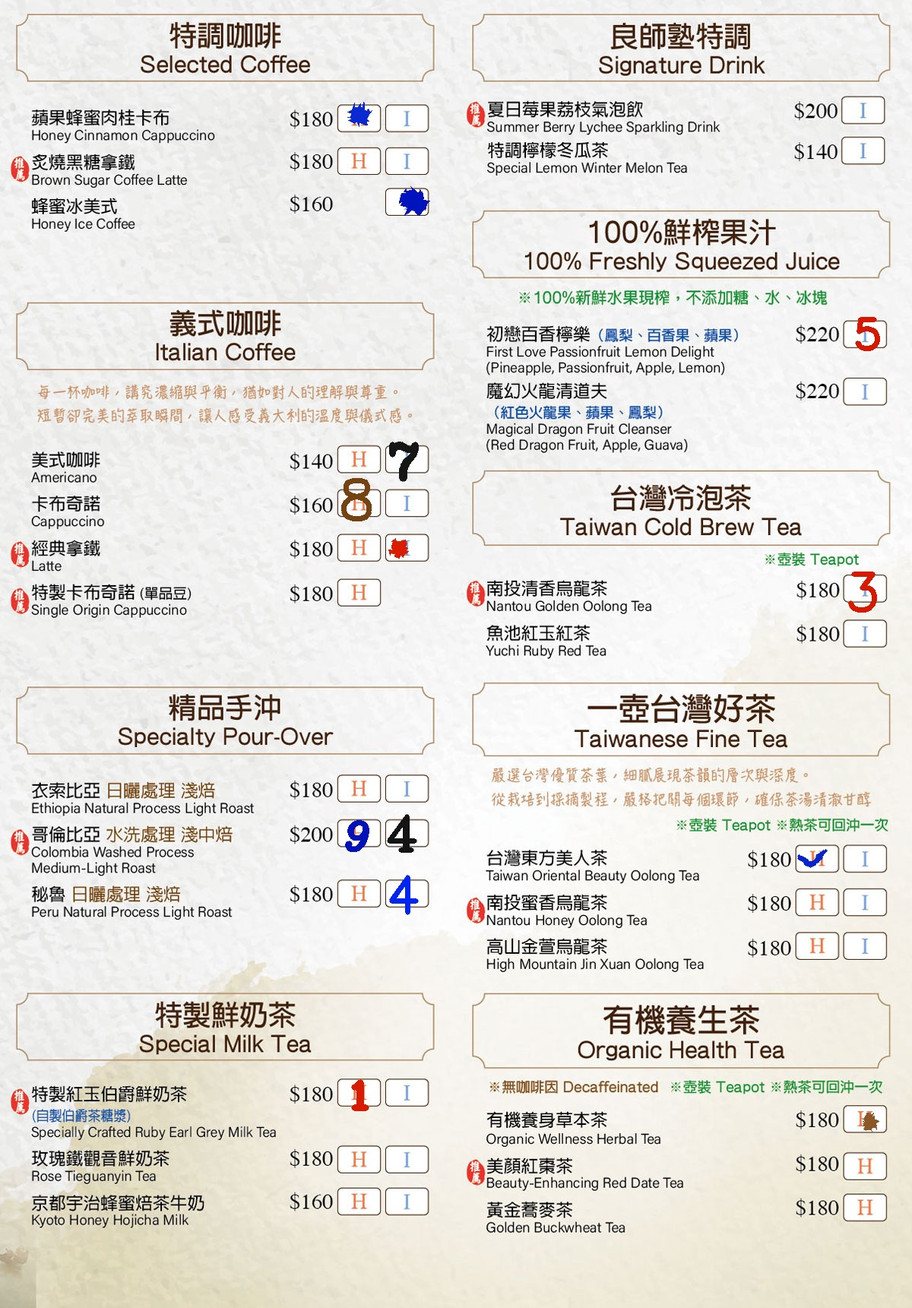marked_circle: (387, 190, 426, 214), (388, 535, 426, 559), (339, 106, 378, 129), (846, 1106, 885, 1129)
marked_number_1: (342, 1080, 381, 1104)
marked_number_3: (846, 576, 885, 600)
marked_number_4: (387, 881, 426, 904), (385, 822, 424, 845)
marked_number_5: (845, 321, 884, 345)
marked_number_7: (388, 446, 426, 470)
marked_number_8: (339, 489, 378, 513)
marked_number_9: (339, 822, 378, 845)
marked_tick: (796, 845, 835, 869)
